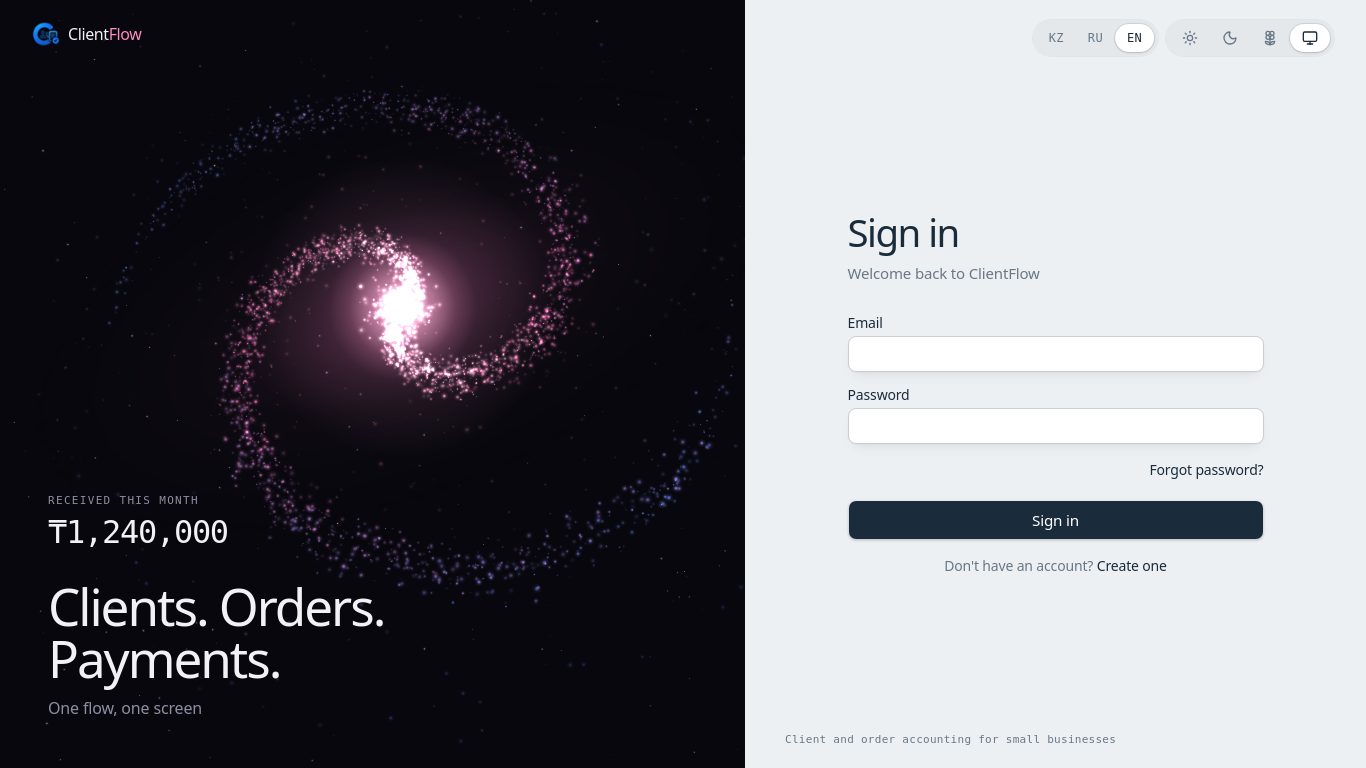
Test: login page › shows a translated error for wrong credentials
Type "aigerim@example.com" into the field labelled "Email" at (1056, 354), box x1=848 y1=336 x2=1264 y2=372
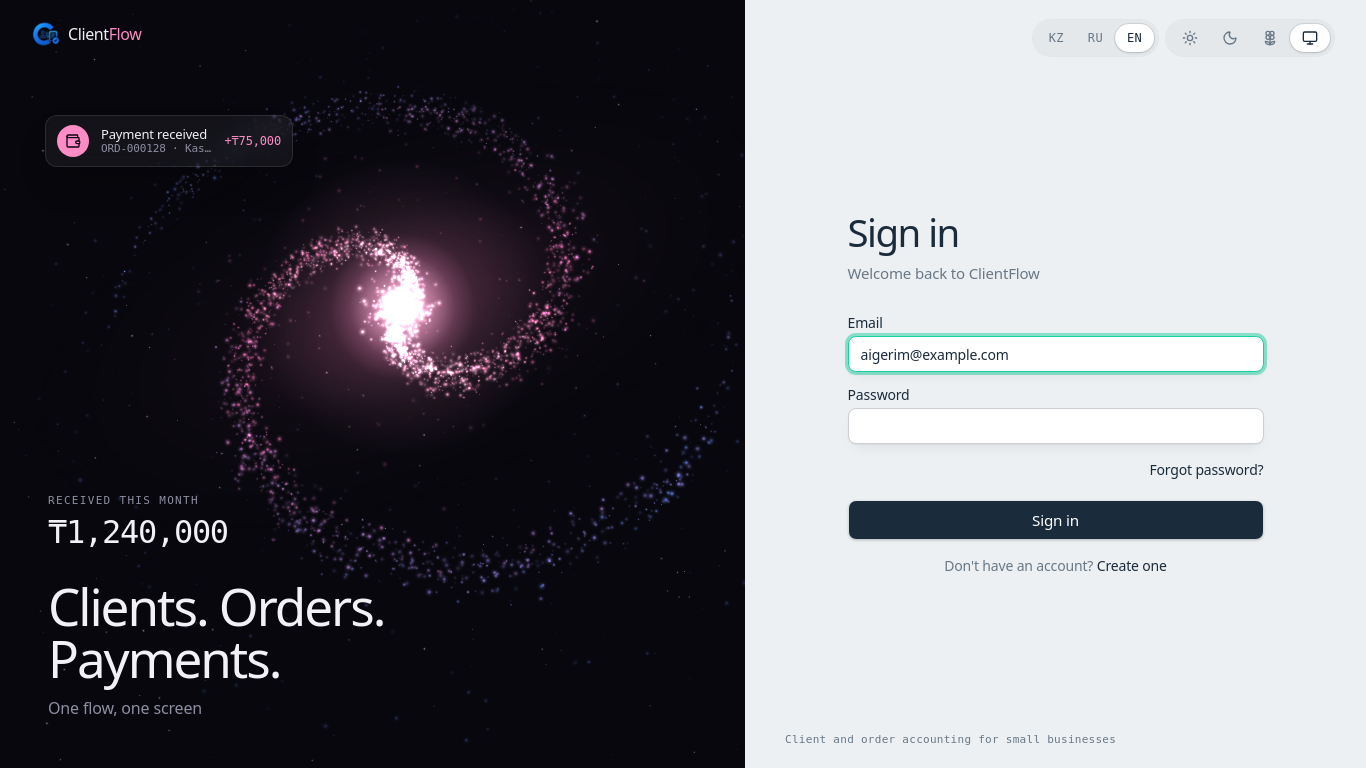
Type "wrong-password" into the password field labelled "Password" at (1056, 426), box x1=848 y1=408 x2=1264 y2=444
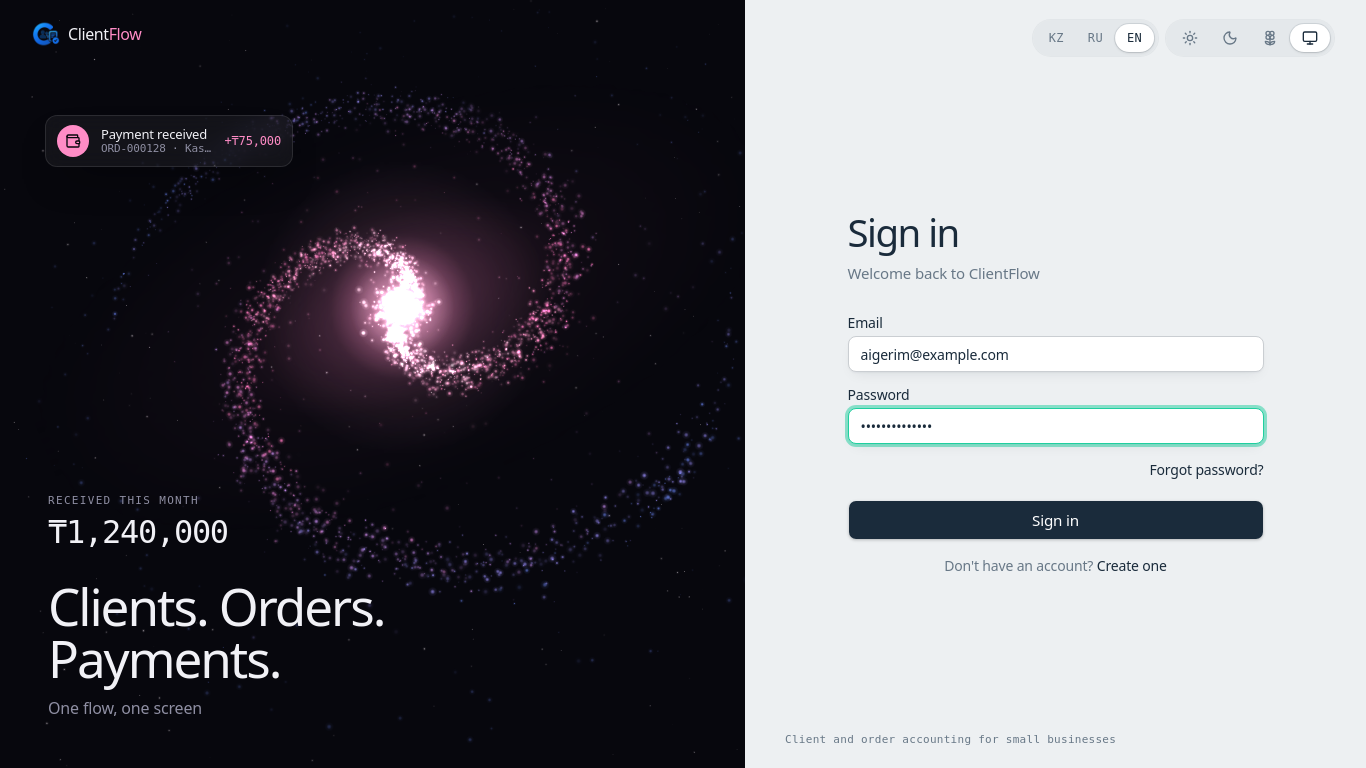
Click the button "Sign in" at (1056, 520), box x1=848 y1=500 x2=1264 y2=540
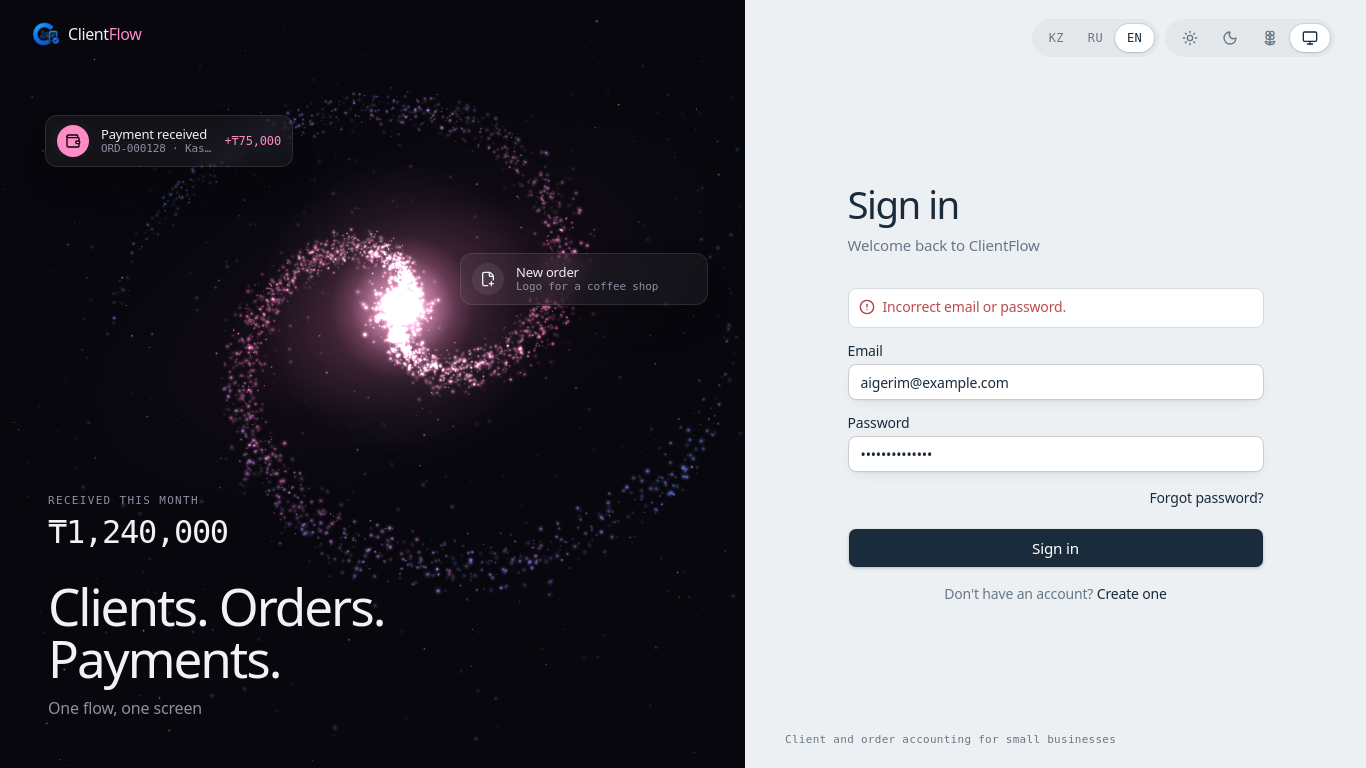
Expected: the text "Incorrect email or password." is shown, x1=882 y1=297 x2=1066 y2=316
